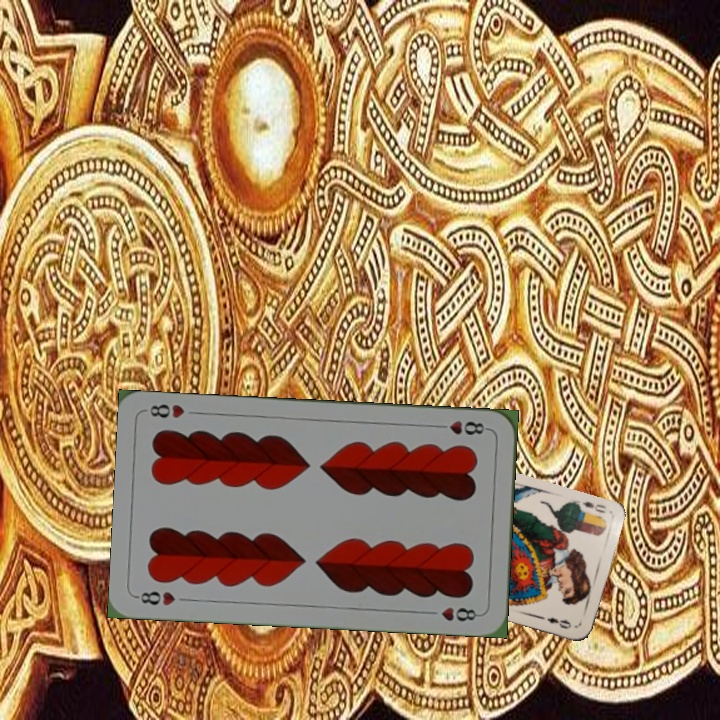EO: (572, 496, 608, 520)
H8: (432, 417, 491, 438), (133, 587, 178, 608)
